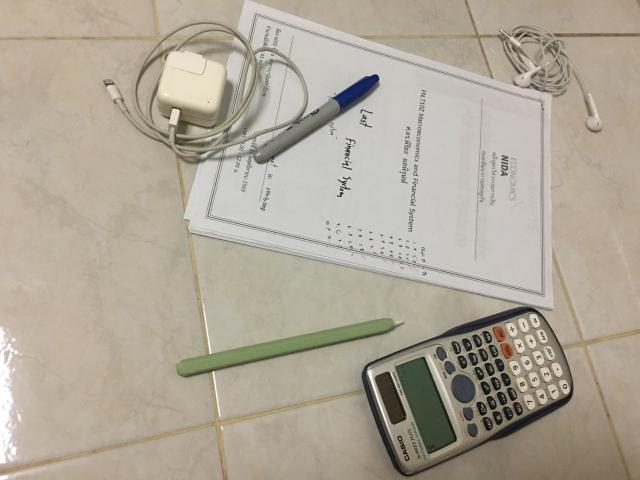Pen: (254, 75, 379, 162)
paper: (185, 3, 554, 309)
wire: (104, 20, 309, 159), (500, 25, 602, 131)
